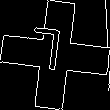L_S: (37, 28, 73, 82)
